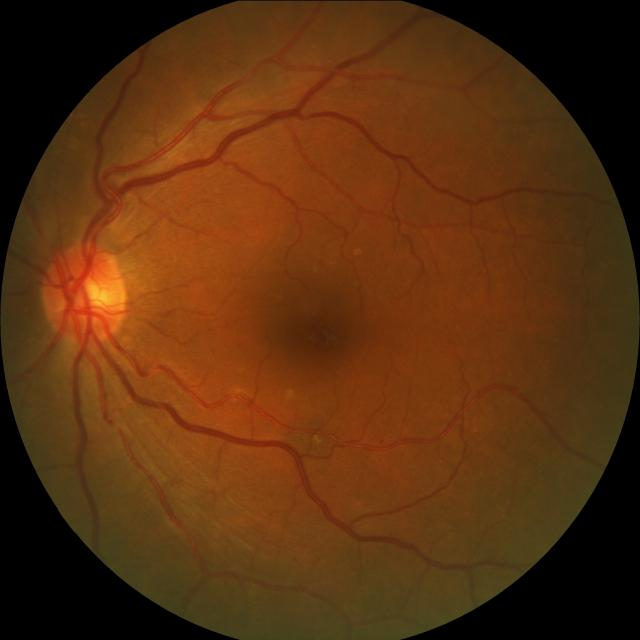OC: (64, 270, 114, 323)
OD: (42, 244, 129, 345)
